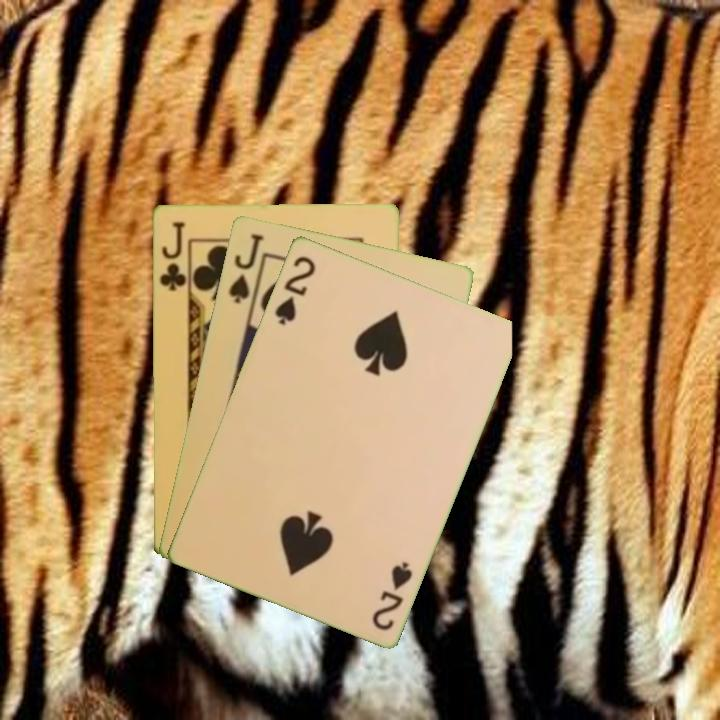2s: (270, 251, 318, 328), (368, 557, 415, 633)
Jc: (155, 218, 188, 294)
Js: (224, 229, 267, 306)
